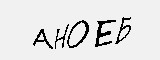А: (32, 27, 53, 51)
Б: (117, 15, 133, 46)
Е: (93, 18, 116, 47)
Н: (54, 24, 68, 47)
О: (67, 19, 90, 49)
